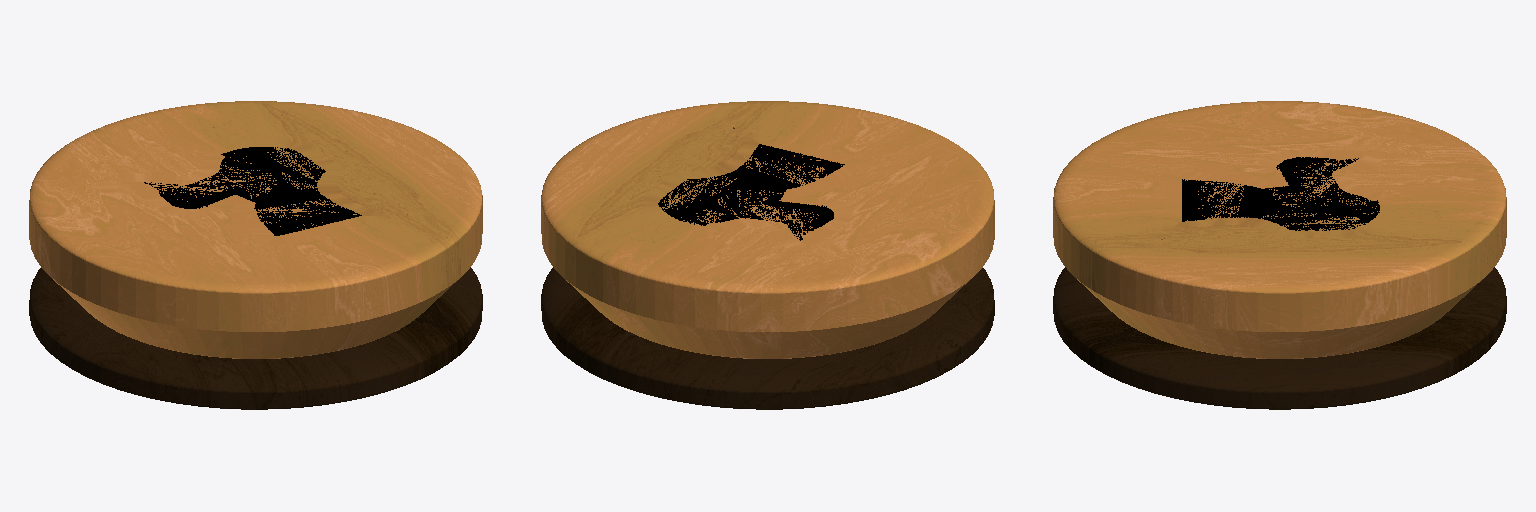
3 renders of one model, left to right at view 1: azimuth 30°, elevation 25°; view 2: azimuth 150°, elevation 25°; view 3: azimuth 270°, elevation 25°, orthographic.
Parts seen in each view (by area): view 1: PedestalTopPart_Cylinder.002, PedestalBottomPart_Cylinder.001; view 2: PedestalTopPart_Cylinder.002, PedestalBottomPart_Cylinder.001; view 3: PedestalTopPart_Cylinder.002, PedestalBottomPart_Cylinder.001.
Part boxes in pixels (x1,y1,x2,y2): PedestalTopPart_Cylinder.002: (29, 101, 482, 358); PedestalBottomPart_Cylinder.001: (29, 267, 482, 409); PedestalTopPart_Cylinder.002: (541, 101, 994, 358); PedestalBottomPart_Cylinder.001: (541, 267, 994, 409); PedestalTopPart_Cylinder.002: (1053, 101, 1506, 358); PedestalBottomPart_Cylinder.001: (1053, 267, 1506, 409).
Bounding box in the file's own units: 0.3 × 0.0909 × 0.3.
2 materials, 2 textured.